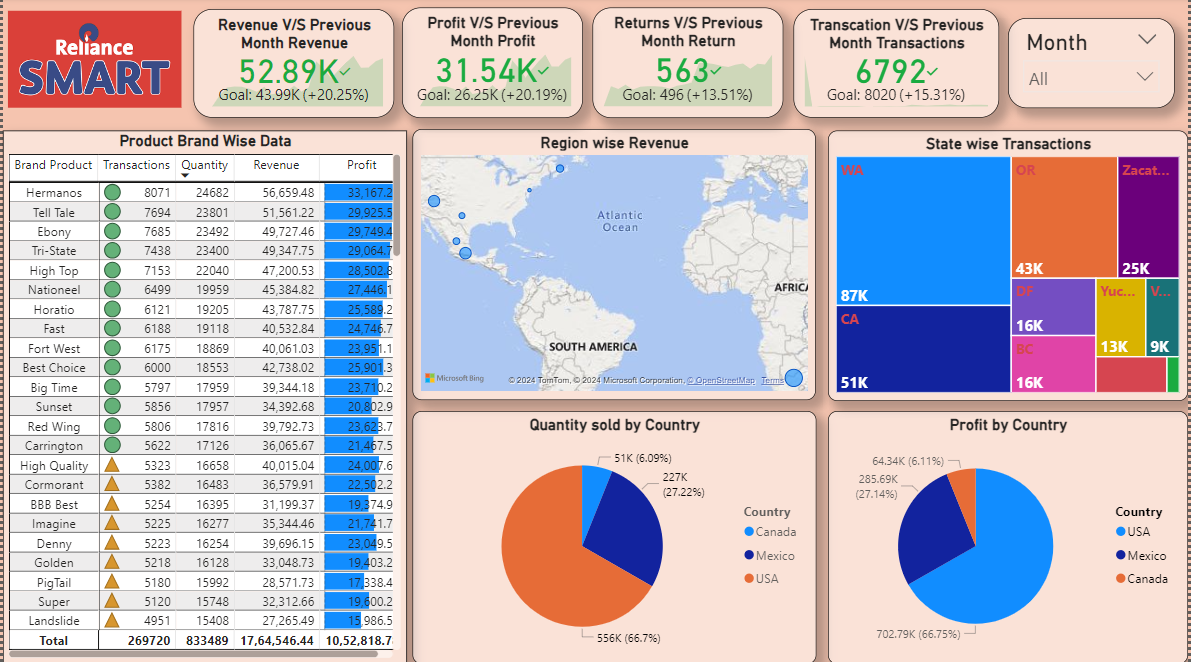

This screenshot's page, from the dashboard's own definition file:
{"tool":"powerbi","page":{"name":"Analysis","canvas":[1280,720],"ordinal":0},"visuals":[{"type":"kpi","title":"Revenue V/S Previous Month Revenue","fields":{"TrendLine":["d_Calendar.Start of Month"],"Goal":["M_TABLER.M_Total_Revenue"],"Indicator":["M_TABLER.M_Previous_Month_Revenue"]},"box":[206,12.6,216.8,117.5],"z":0},{"type":"image","box":[0,5.3,197.8,124.3],"z":1000},{"type":"pivotTable","title":"Product Brand Wise Data ","fields":{"Rows":["d_Products.product_brand"],"Values":["M_TABLER.M_Total_Transcation","M_TABLER.M_Quantity_sold","M_TABLER.M_Total_Revenue","M_TABLER.M_Total_Profit"]},"box":[0,143.5,435.8,575.8],"z":2000},{"type":"map","title":"Region wise Revenue","fields":{"Size":["M_TABLER.M_Total_Revenue"],"Category":["d_Regions.sales_region"]},"box":[442.7,142.8,435.5,292.7],"z":3000},{"type":"pieChart","title":"Quantity sold by Country","fields":{"Y":["M_TABLER.M_Quantity_sold"],"Series":["d_Customers.customer_country"]},"box":[442.8,446.3,435.8,273],"z":4000},{"type":"treemap","title":"State wise Transactions","fields":{"Group":["d_Stores.store_state"],"Values":["M_TABLER.M_Total_Transcation"]},"box":[890.9,143.5,388.6,292.3],"z":5000},{"type":"pieChart","title":"Profit by Country","fields":{"Category":["d_Stores.store_country"],"Y":["M_TABLER.M_Total_Profit"]},"box":[890.9,446.3,388.6,273],"z":6000},{"type":"kpi","title":"Profit V/S Previous Month Profit","fields":{"TrendLine":["d_Calendar.Start of Month"],"Goal":["M_TABLER.M_Total_Profit"],"Indicator":["M_TABLER.M_Previous_Month_Profit"]},"box":[430.1,10.8,195.2,119.3],"z":7000},{"type":"kpi","title":"Returns V/S Previous Month Return","fields":{"Goal":["M_TABLER.M_Total_Returns"],"TrendLine":["d_Calendar.Start of Month"],"Indicator":["M_TABLER.M_Previous_Month_Return"]},"box":[636.1,10.8,206,119.3],"z":8000},{"type":"kpi","title":"Transcation V/S Previous Month Transactions","fields":{"TrendLine":["d_Calendar.Start of Month"],"Goal":["M_TABLER.M_Previous_Month_Transactions"],"Indicator":["M_TABLER.M_Total_Transcation"]},"box":[852.9,12.6,222.3,117.5],"z":9000},{"type":"slicer","fields":{"Values":["d_Calendar.Date.Variation.Date Hierarchy.Month"]},"box":[1084.9,22.7,179.7,97.2],"z":10000}]}

Visuals, with their boxes in screenshot pixels (x1, y1, x2, y2), scaled from the page's 1280x720 canvas onto the 1191x662 screenshot:
"Revenue V/S Previous Month Revenue" kpi: x1=192 y1=12 x2=393 y2=120
image: x1=0 y1=5 x2=184 y2=119
"Product Brand Wise Data " pivotTable: x1=0 y1=132 x2=405 y2=661
"Region wise Revenue" map: x1=412 y1=131 x2=817 y2=400
"Quantity sold by Country" pieChart: x1=412 y1=410 x2=818 y2=661
"State wise Transactions" treemap: x1=829 y1=132 x2=1190 y2=401
"Profit by Country" pieChart: x1=829 y1=410 x2=1190 y2=661
"Profit V/S Previous Month Profit" kpi: x1=400 y1=10 x2=582 y2=120
"Returns V/S Previous Month Return" kpi: x1=592 y1=10 x2=784 y2=120
"Transcation V/S Previous Month Transactions" kpi: x1=794 y1=12 x2=1000 y2=120
slicer - d_Calendar.Date.Variation.Date Hierarchy.Month: x1=1009 y1=21 x2=1177 y2=110
